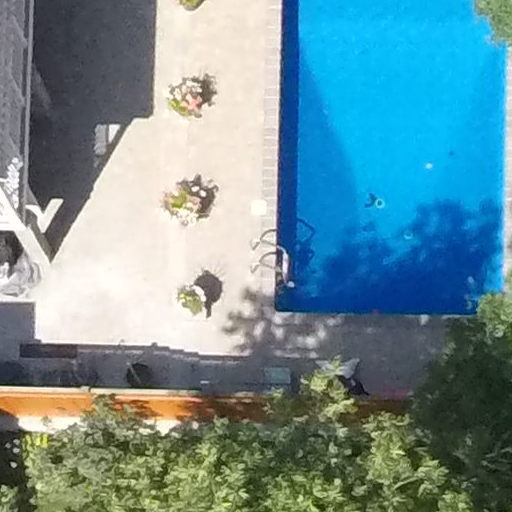container: (123, 359, 156, 390)
fence: (2, 380, 512, 445)
flower pot: (158, 168, 218, 233), (163, 67, 219, 122), (163, 277, 214, 329)
pool: (250, 1, 511, 330)
